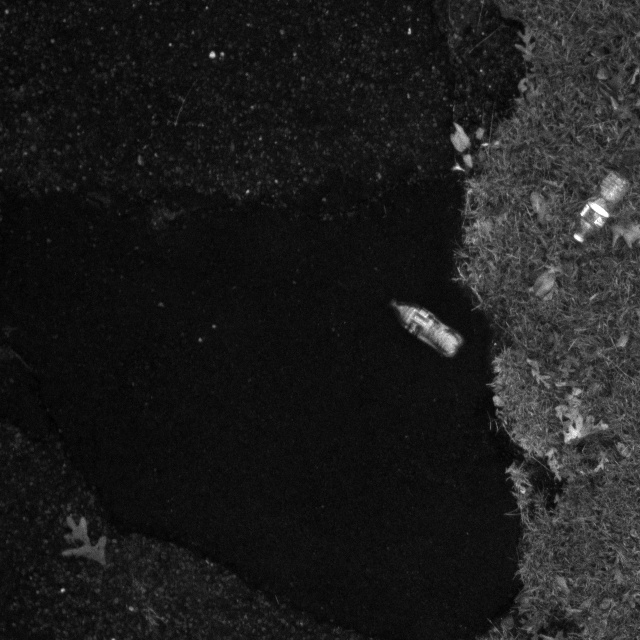bottle: (376, 294, 466, 361), (571, 168, 636, 246)
